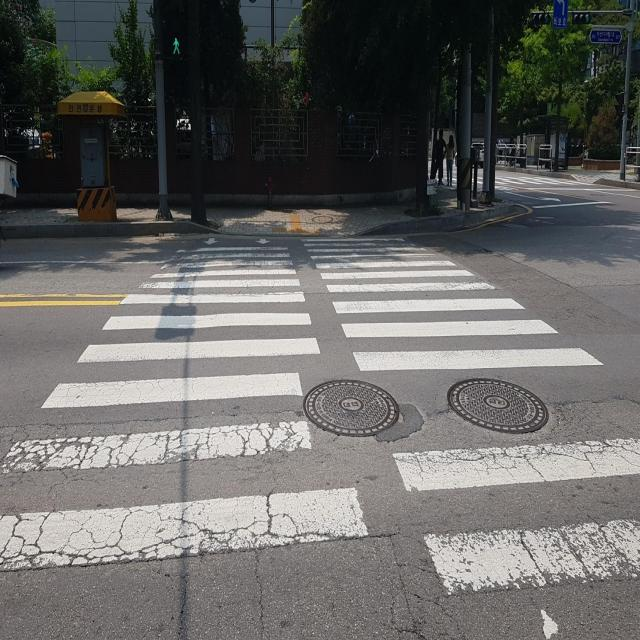횡단보도: (0, 238, 640, 640), (439, 171, 575, 189)
